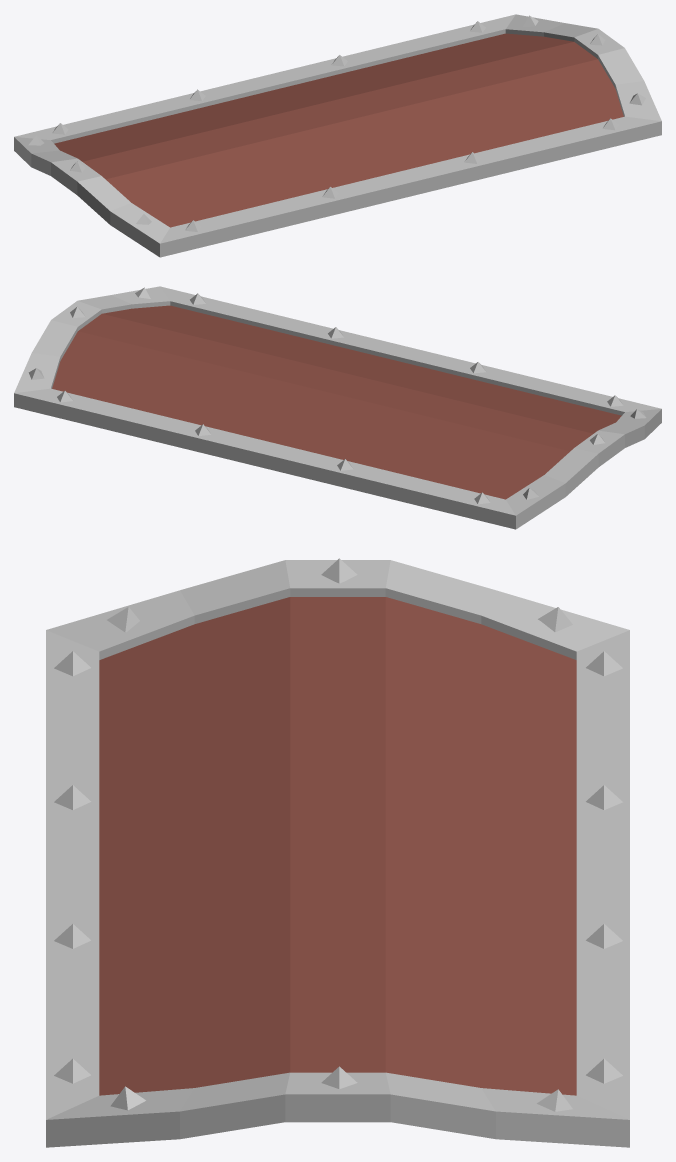
The model's file is Shield_2_b_r.fbx.
3 renders of one model, top to bottom at view 1: azimuth 30°, elevation 25°; view 2: azimuth 150°, elevation 25°; view 3: azimuth 270°, elevation 25°, orthographic. The views are drawn at different scales.
Visible parts, largest first — view 1: Plane.095, Plane.096, Cone.173; view 2: Plane.095, Plane.096, Cone.173; view 3: Plane.095, Plane.096, Cone.173.
Boxes of the visible parts, bbox=[...] form: Plane.095: bbox=[54, 33, 623, 227]; Plane.096: bbox=[14, 14, 661, 257]; Cone.173: bbox=[28, 15, 645, 231]; Plane.095: bbox=[52, 305, 621, 499]; Plane.096: bbox=[14, 286, 661, 529]; Cone.173: bbox=[28, 287, 646, 504]; Plane.095: bbox=[99, 597, 576, 1095]; Plane.096: bbox=[46, 560, 629, 1147]; Cone.173: bbox=[54, 558, 622, 1111].
Size of the model in its own units: 132 by 16.24 by 61.17.
